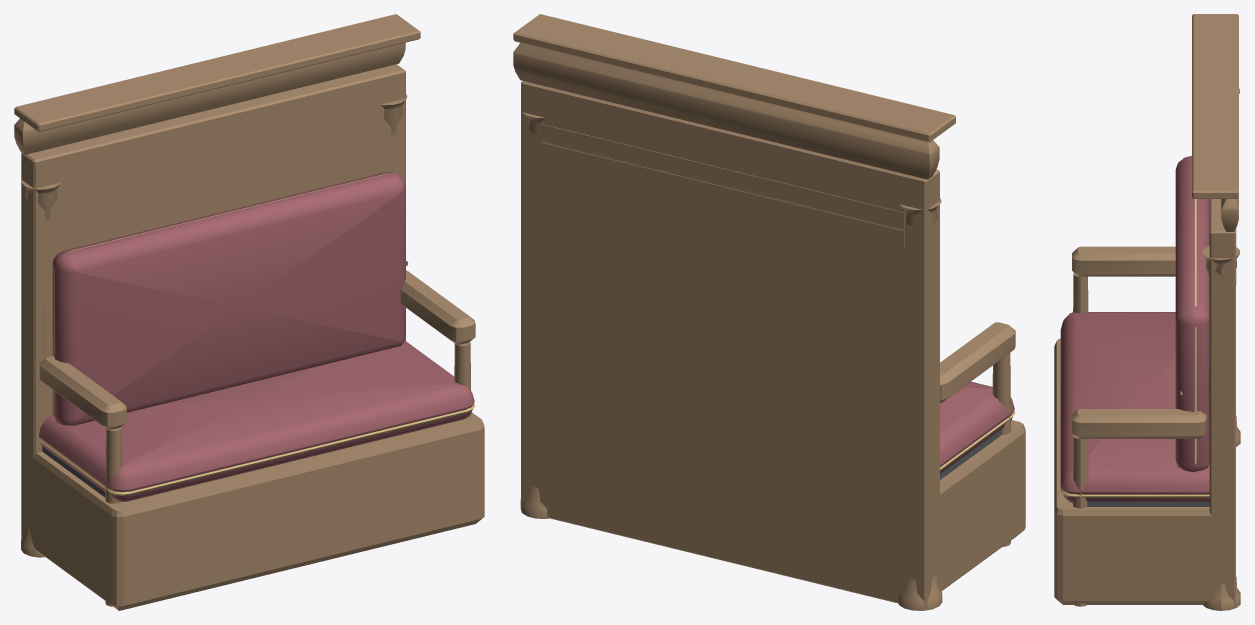
Rendered from bar-pub-and-brewery-taproom-snug-settle-bench-6608e2ac__18376.glb.
The picture shows the model from 3 angles, left to right: view 1: azimuth 30°, elevation 25°; view 2: azimuth 150°, elevation 25°; view 3: azimuth 270°, elevation 25°; orthographic projection. The views are drawn at different scales.
Parts seen in each view (by area): view 1: snug-settle-bench; view 2: snug-settle-bench; view 3: snug-settle-bench.
Boxes of the visible parts, x1=… form: snug-settle-bench: x1=14, y1=14, x2=484, y2=610; snug-settle-bench: x1=513, y1=14, x2=1025, y2=610; snug-settle-bench: x1=1054, y1=14, x2=1240, y2=610.
Bounding box in the file's own units: 1.44 × 1.58 × 0.6356.
